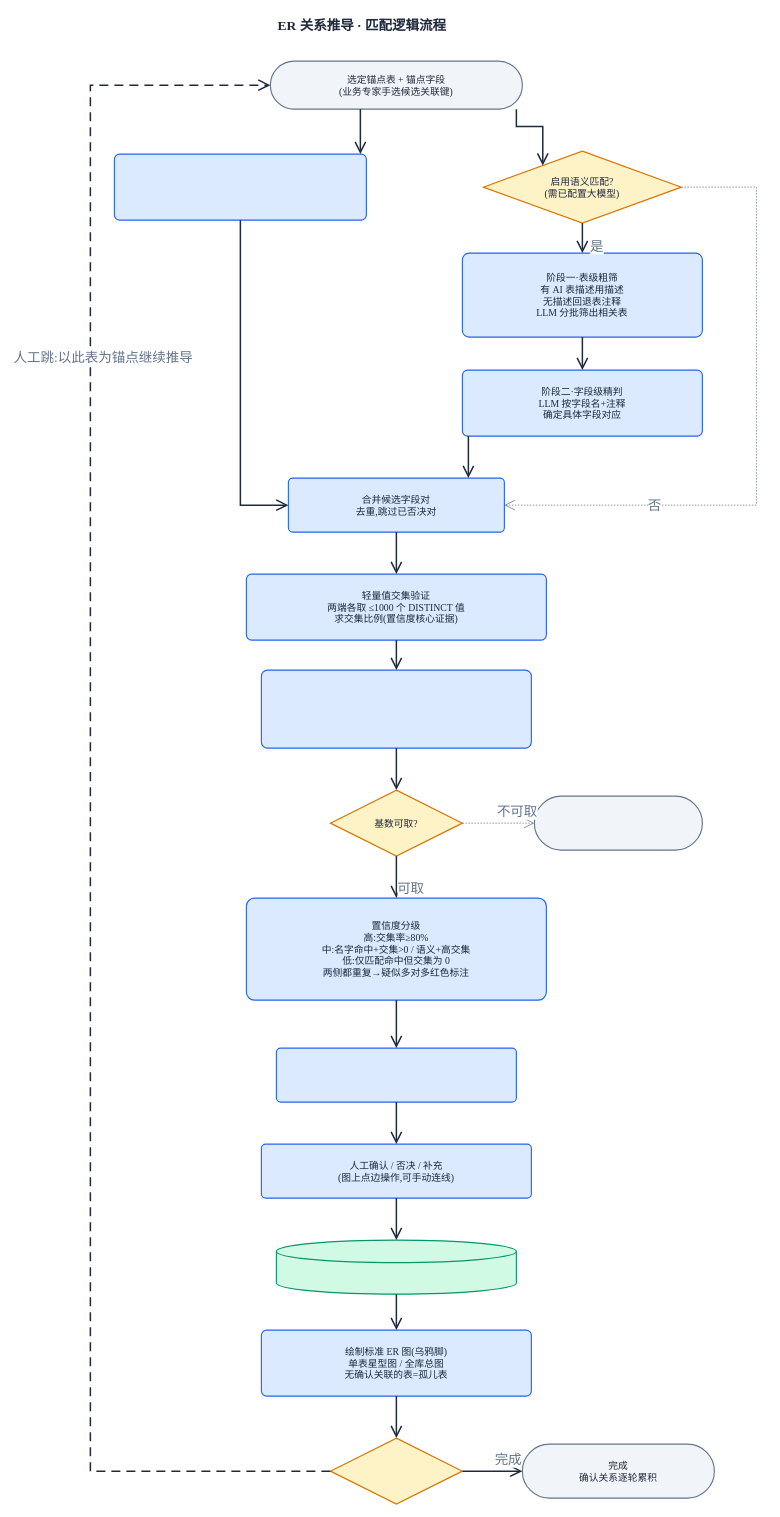
Image size: 780x1517. Some labels were removed from this diagram. The shapes that lost their labels are listed below. From the top down, each one's centre as x and y in pixels, then its label:
At point (240, 186): "通道一:字段名精准匹配 忽略大小写,查全库字段清单 (meta_schema_column 缓存)".
At point (396, 708): "基数验证 唯一索引命中→直接定「一」侧 否则 GROUP BY HAVING COUNT>1 (排除 NULL)".
At point (618, 822): "剔除 (空表/查询失败)".
At point (396, 1074): "候选关联入库(候选态) ER 图上画虚线".
At point (396, 1266): "确认关联(权威关系) 三态:候选/确认/否决".
At point (396, 1470): "继续扩展?".
